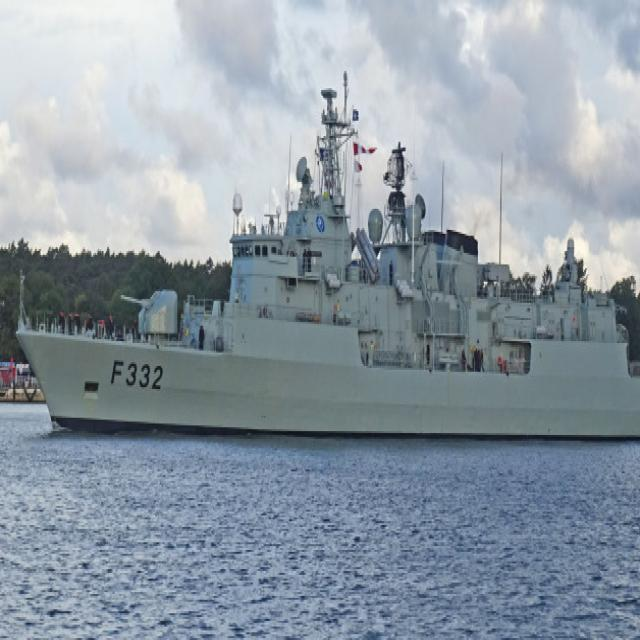Fragata: (13, 68, 640, 446)
